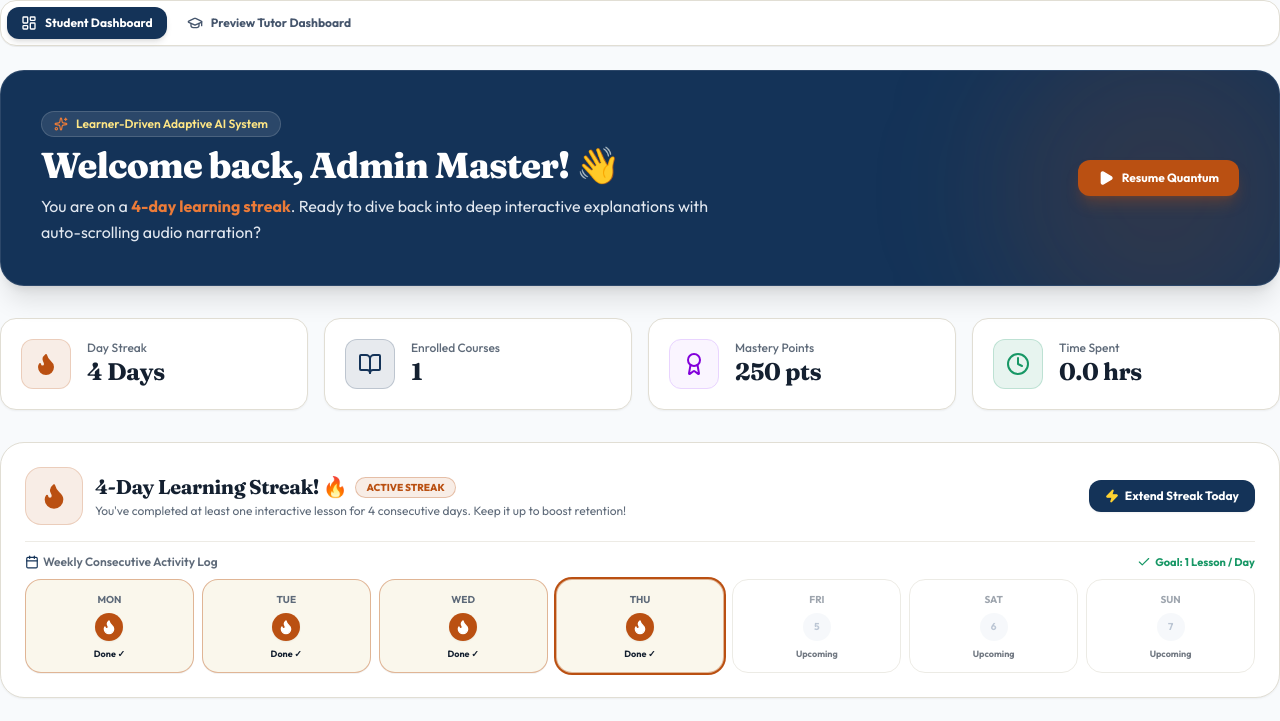
Dashboard › Master role (FR-3 preview toggle) › toggling back returns to the Student Dashboard
Click the button "Preview Tutor Dashboard" at (269, 23), box [173,7,365,39]
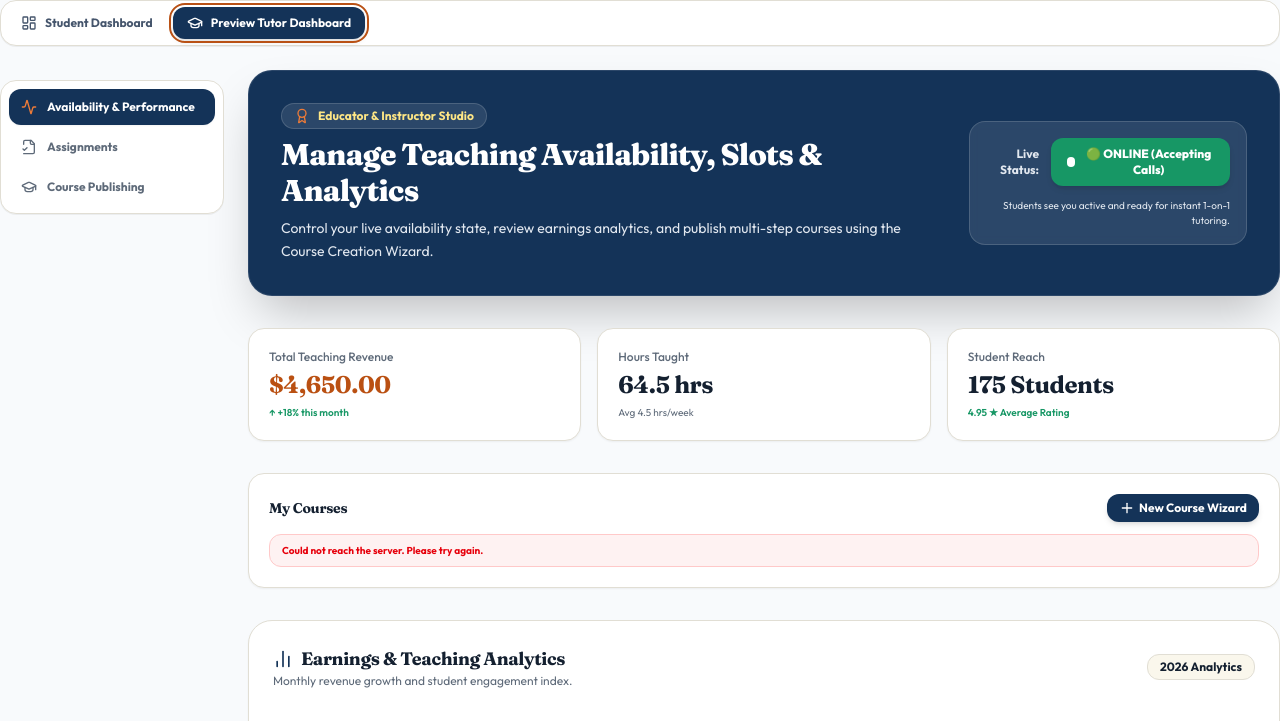
Click the button "Student Dashboard" at (87, 23), box [7,7,167,39]
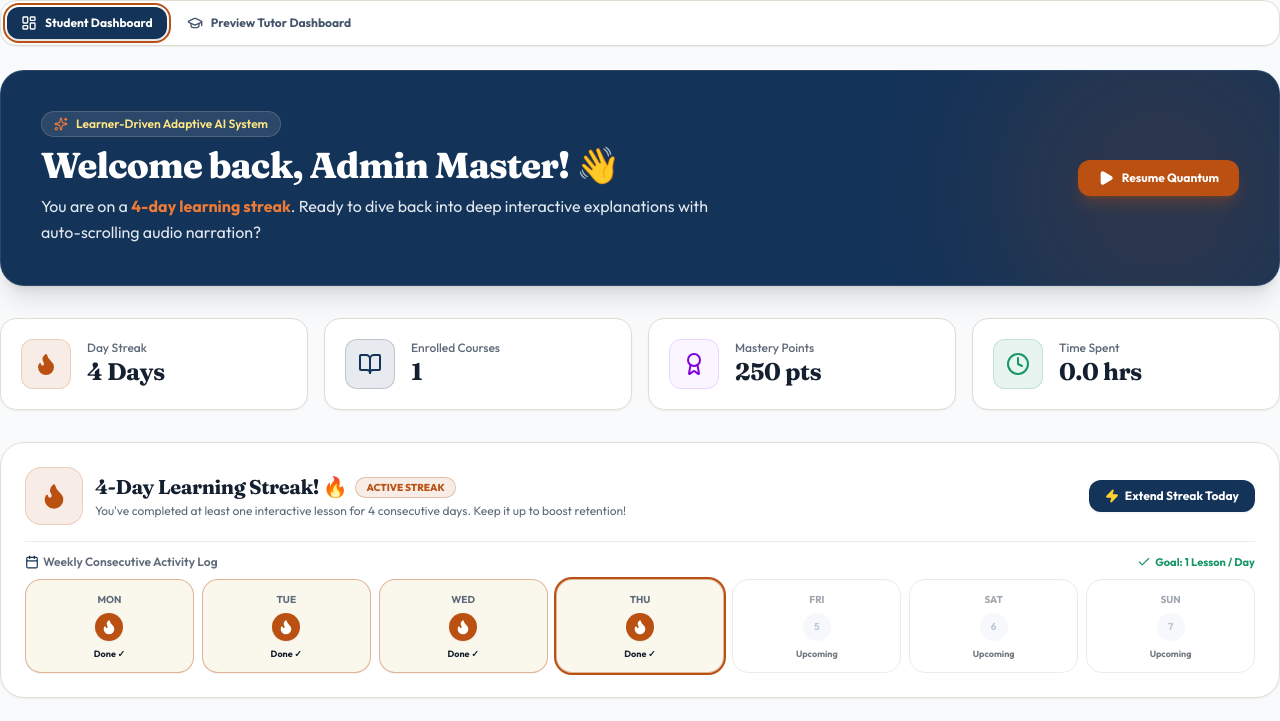
Result: the heading "Welcome back, Admin Master! 👋" is shown at [41,145,713,185]
